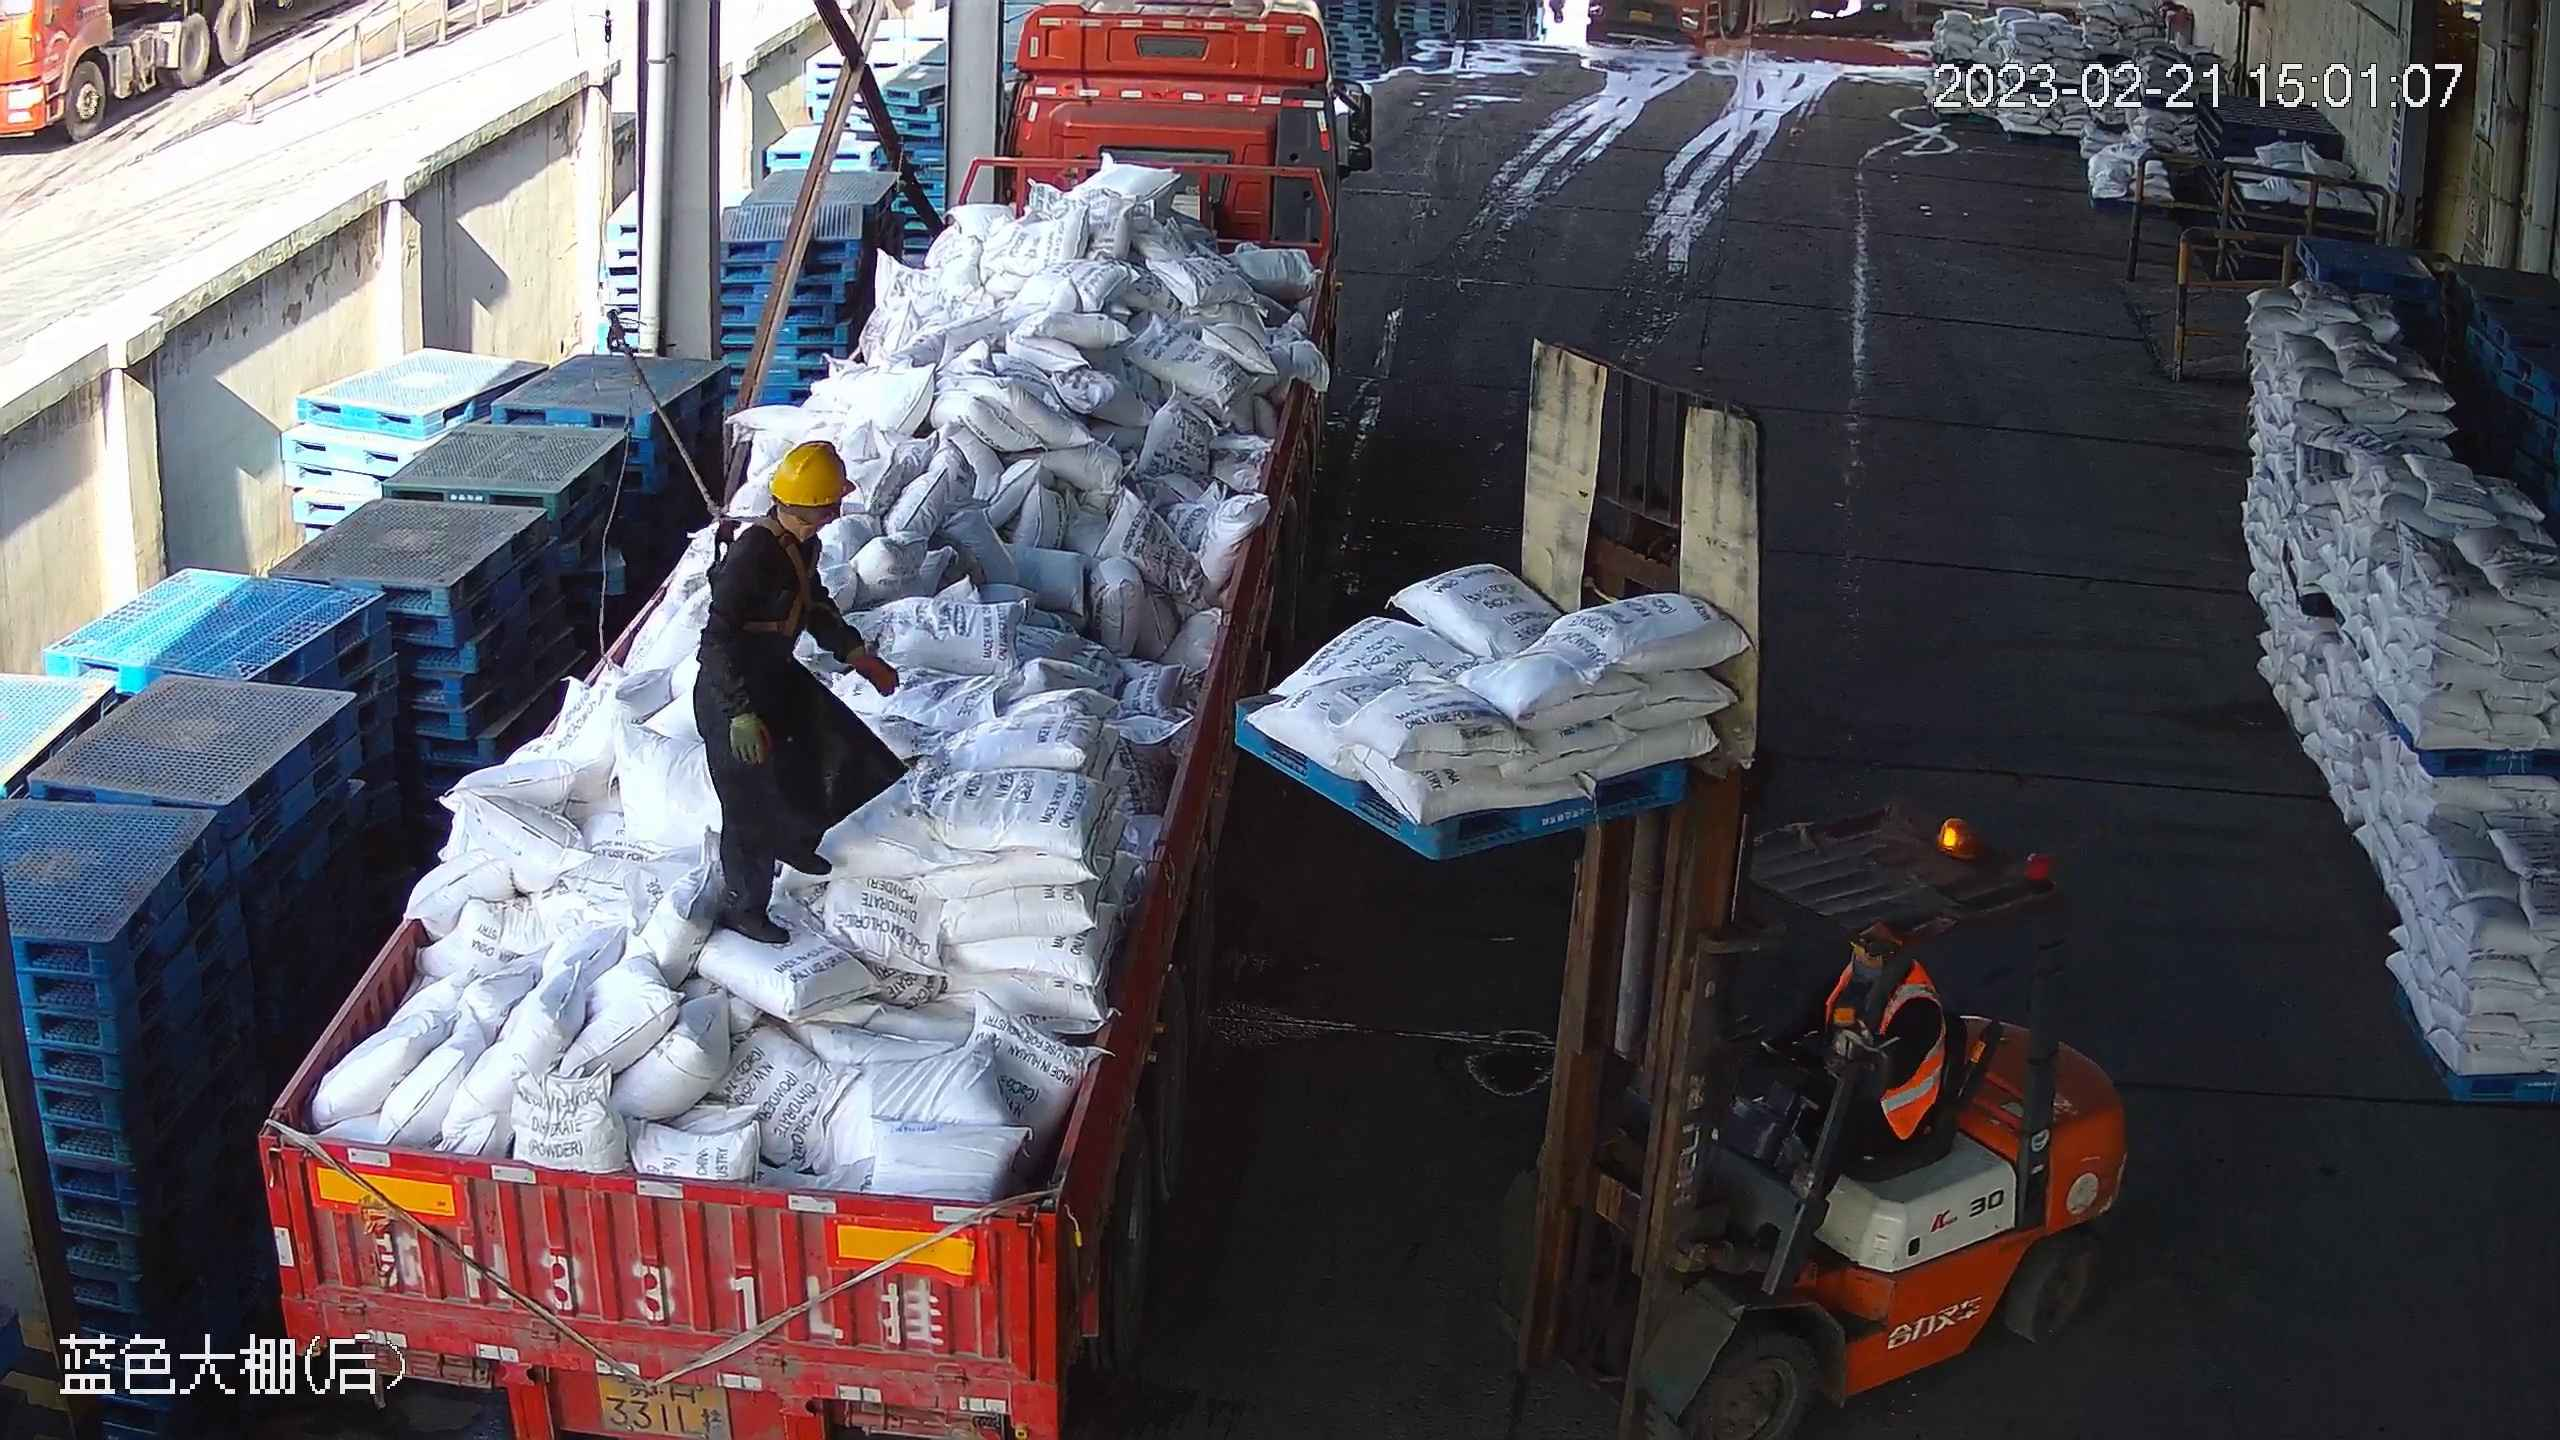belt: (696, 489, 824, 634)
head: (714, 440, 858, 602)
helmet: (768, 440, 857, 508)
people: (692, 440, 912, 946)
truck: (254, 6, 1375, 1440)
